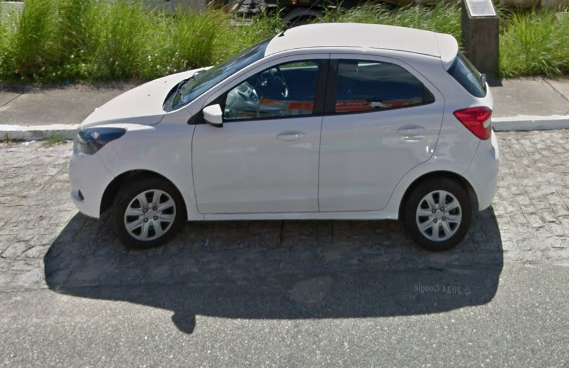car: (67, 13, 503, 256)
